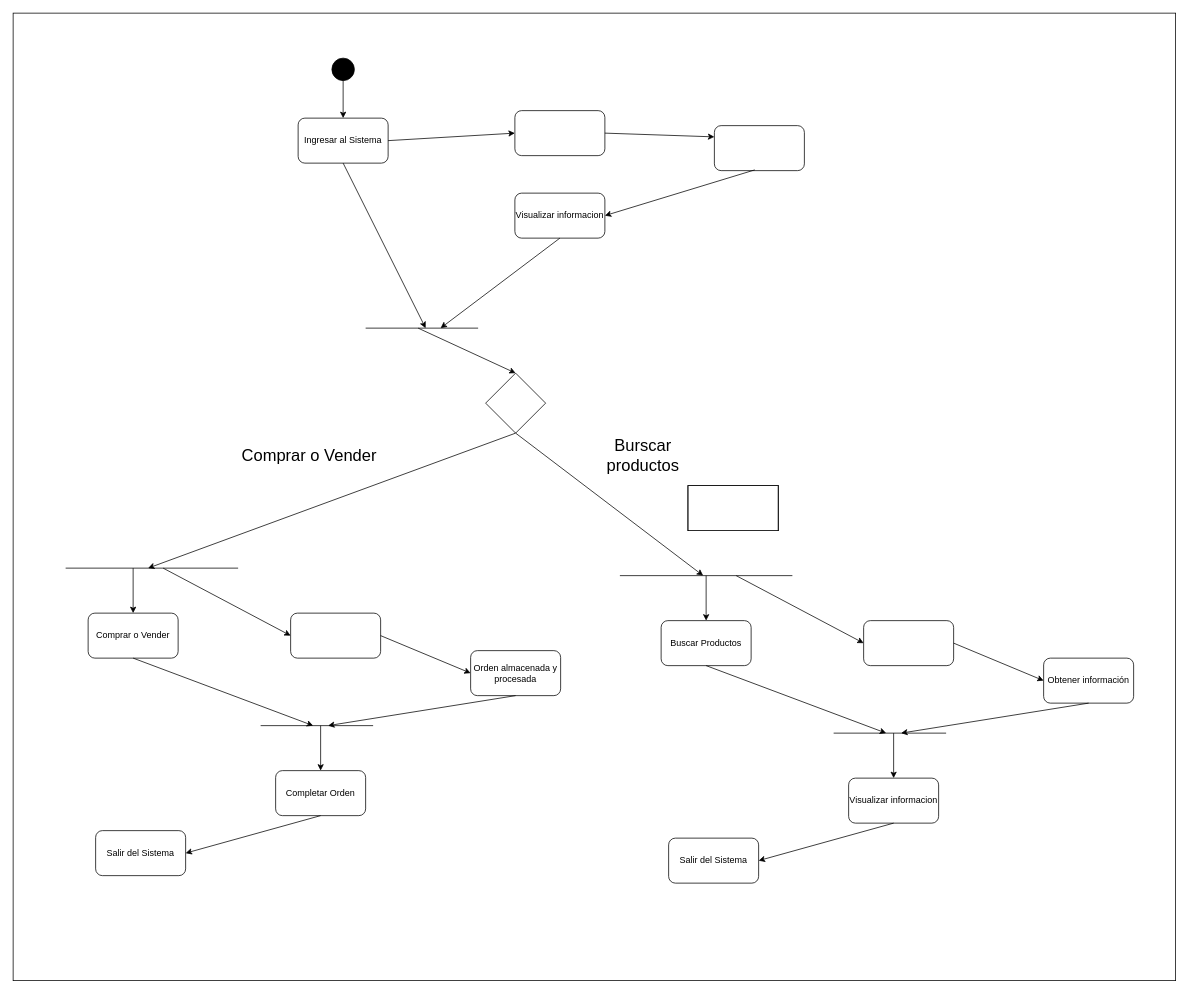
Some shapes in this 1189 by 994 pixel diagram are drawn without their labels. Each missing label, with the box of its shape:
El sistema solicita la información del inventario: (514, 110, 605, 156)
Obtención de información inventario: (714, 125, 804, 171)
Obtener datos busqueda: (863, 620, 954, 666)
Tomar orden: (290, 612, 381, 658)
